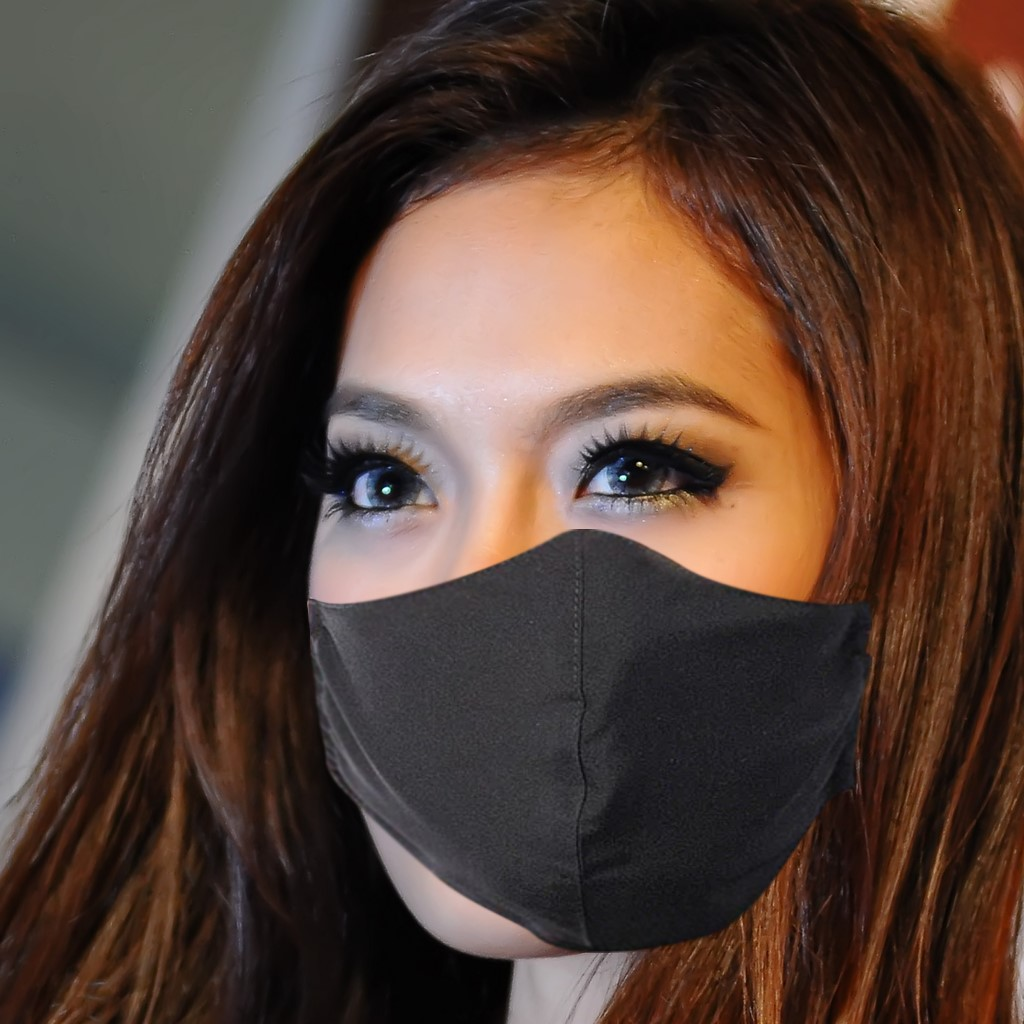con_mascara: (308, 194, 834, 964)
